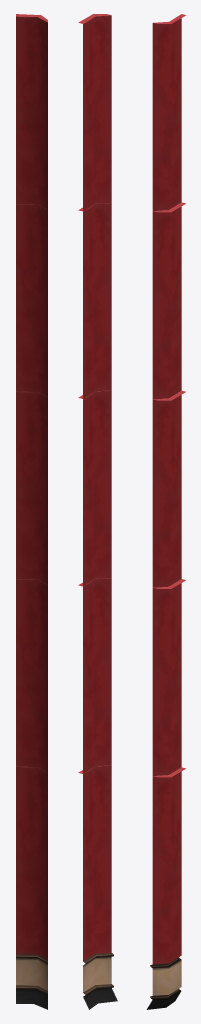
File: em_wall_diagonal_minotaur_hallway.fbx
3 views of the same model, side by side, from view 1: azimuth 90°, elevation 25°; view 2: azimuth 150°, elevation 25°; view 3: azimuth 330°, elevation 25° (orthographic).
Parts seen in each view (by area): view 1: group78_group66_em_wall_hallway_corner_2; view 2: group78_group66_em_wall_hallway_corner_2; view 3: group78_group66_em_wall_hallway_corner_2.
Part boxes in pixels (x1,y1,x2,y2): group78_group66_em_wall_hallway_corner_2: (16,14,47,1009); group78_group66_em_wall_hallway_corner_2: (78,14,117,1009); group78_group66_em_wall_hallway_corner_2: (146,14,185,1009).
Size of the model in its own units: 212 by 8400 by 250.
